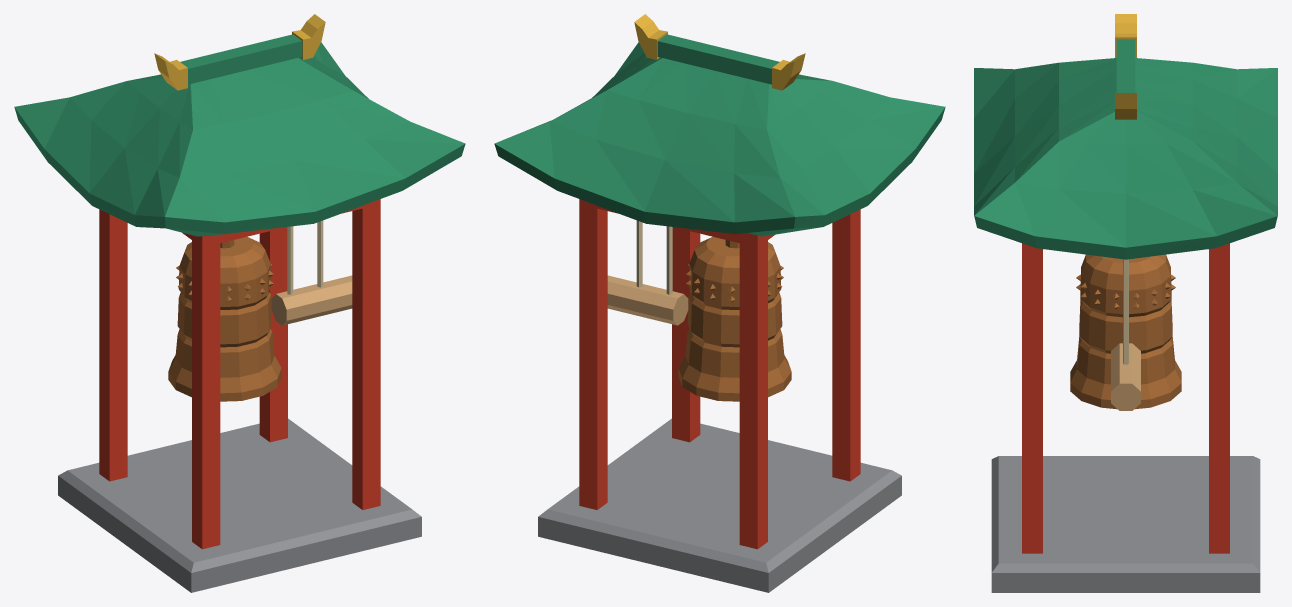
Rendered from bell-tower.glb.
3 renders of one model, left to right at view 1: azimuth 30°, elevation 25°; view 2: azimuth 150°, elevation 25°; view 3: azimuth 270°, elevation 25°, orthographic.
Visible parts, largest first — view 1: Roof, Base, Posts, Bell, Log, Gold, Ropes; view 2: Roof, Base, Posts, Bell, Log, Gold, Ropes; view 3: Roof, Base, Posts, Bell, Log, Gold, Ropes.
Part boxes in pixels (x1,y1,x2,y2): Roof: (14, 34, 465, 236); Base: (58, 418, 421, 592); Posts: (99, 199, 380, 549); Bell: (168, 237, 281, 401); Log: (271, 275, 352, 325); Gold: (154, 14, 325, 90); Ropes: (287, 220, 323, 294); Roof: (494, 34, 945, 236); Base: (538, 418, 901, 592); Posts: (579, 199, 860, 549); Bell: (678, 237, 791, 401); Log: (607, 275, 688, 325); Gold: (634, 14, 805, 90); Ropes: (636, 220, 672, 294); Roof: (974, 39, 1277, 259); Base: (991, 456, 1260, 592); Posts: (1022, 243, 1229, 553); Bell: (1070, 254, 1181, 409); Log: (1111, 343, 1140, 410); Gold: (1115, 14, 1136, 119); Ropes: (1123, 259, 1128, 364).
Size of the model in its own units: 6 by 9.12 by 5.2.
